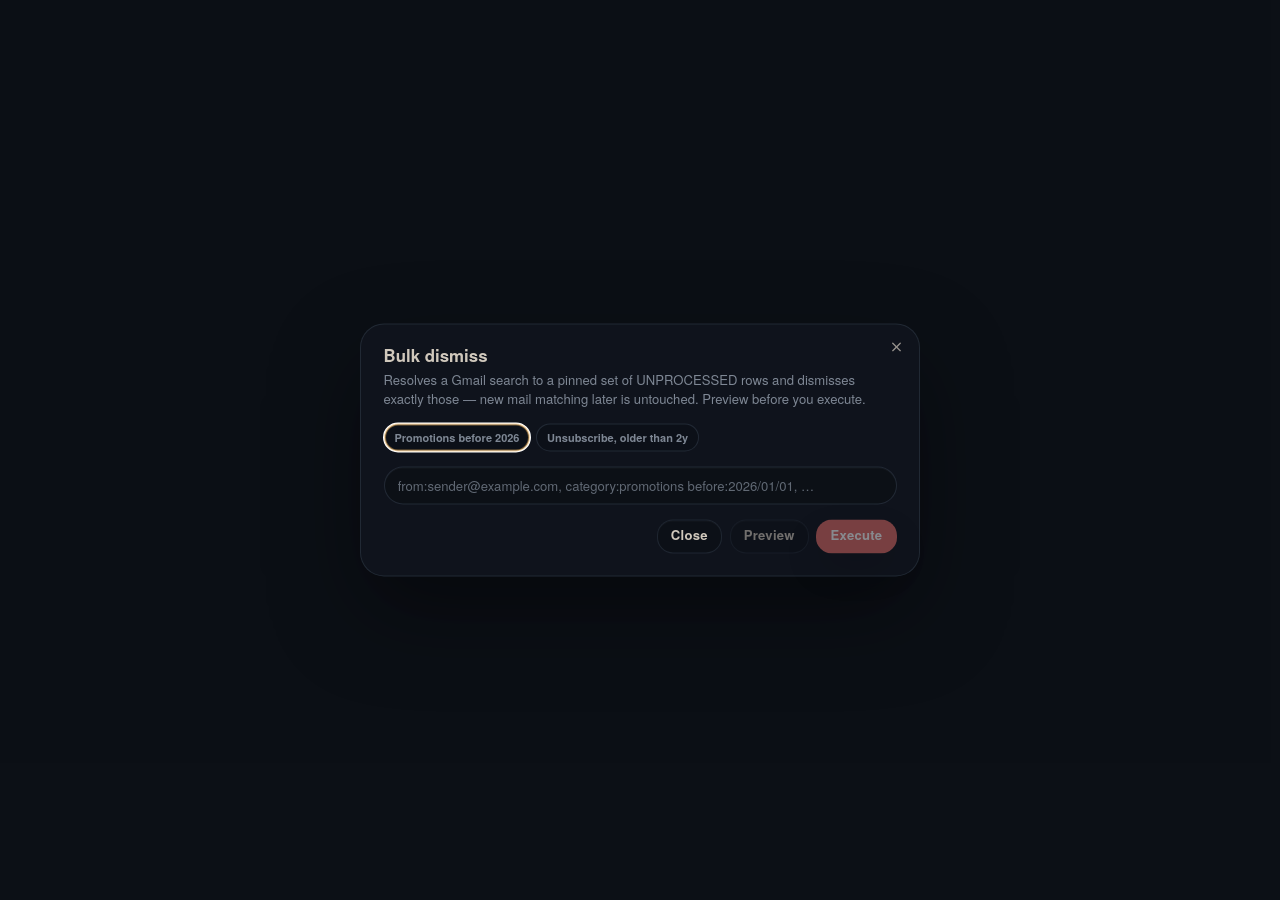
Test: BulkDismissDialog › fills the query from a preset without running it
Click the button "Unsubscribe, older than 2y".
click(618, 438)  # box 536,424 -> 699,452
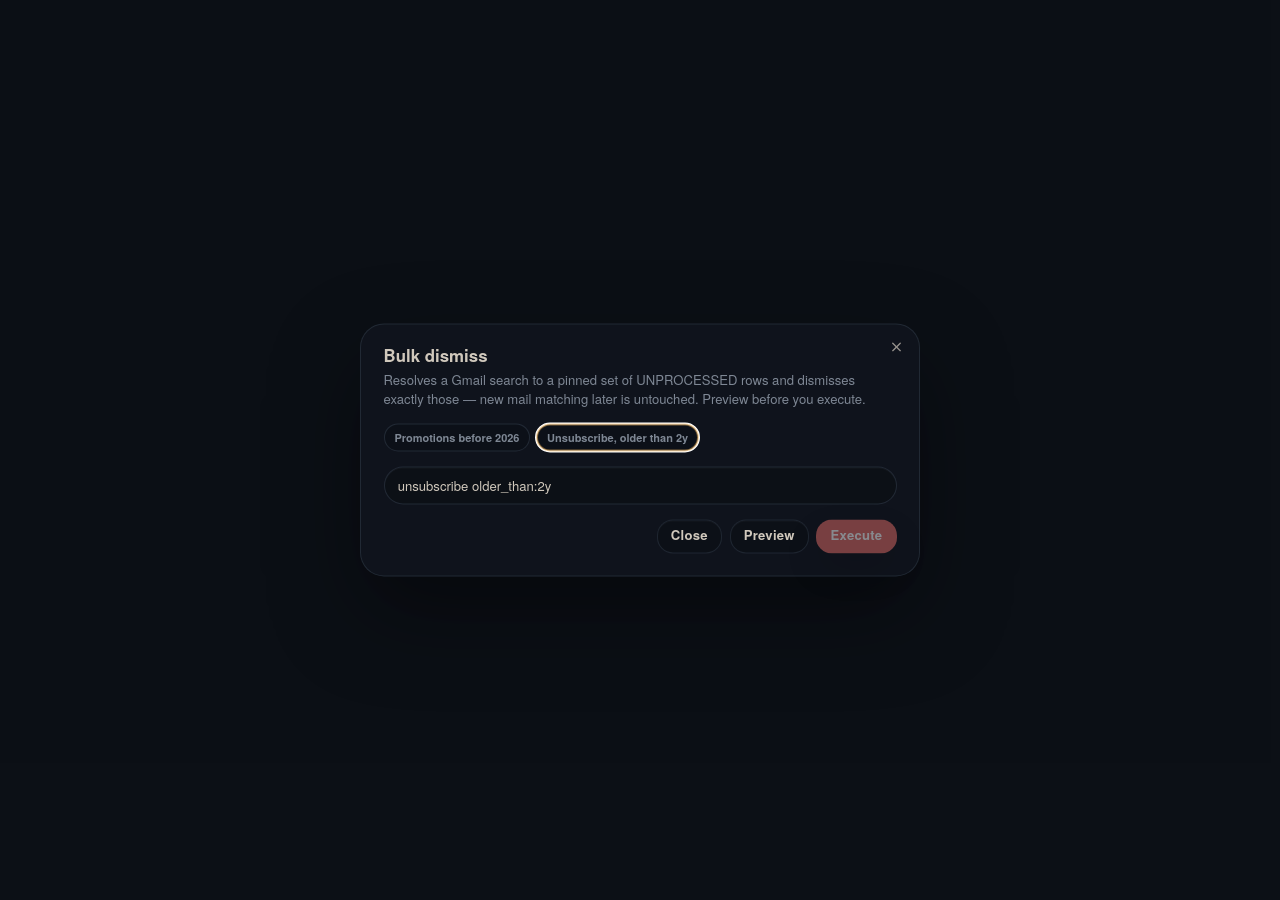
Expected: the field named "Bulk dismiss query" holds "unsubscribe older_than:2y", 384,467 -> 896,504
